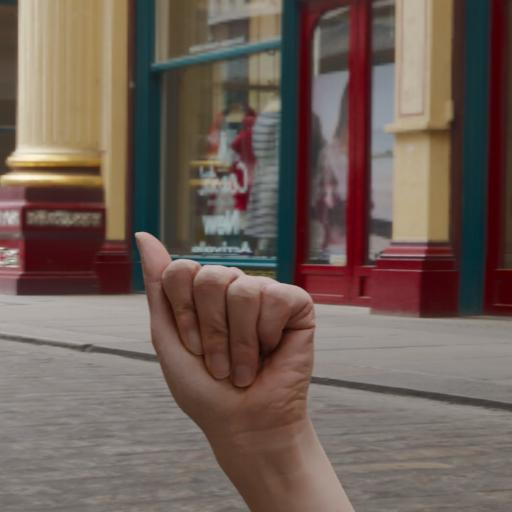A: (121, 221, 325, 434)
